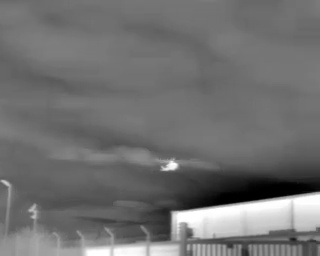HELICOPTER: (154, 153, 184, 177)
